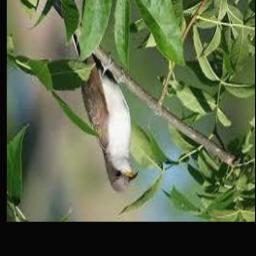Cuckoo: (68, 23, 139, 193)
